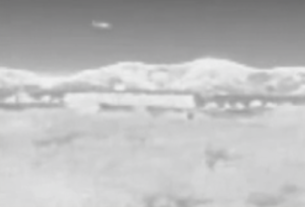Target: (93, 22, 108, 27)
